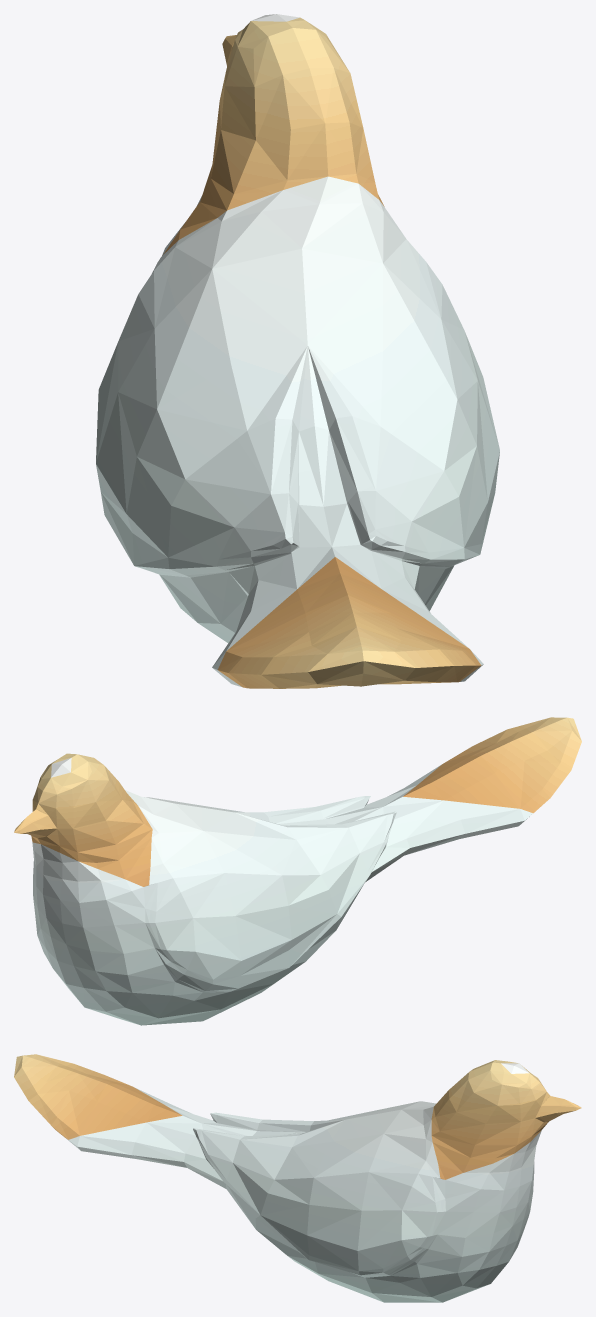
The model's file is CharSkyKid_Horn_AP12Dove_01.glb.
3 views of the same model, one above another, from view 1: azimuth 30°, elevation 25°; view 2: azimuth 150°, elevation 25°; view 3: azimuth 270°, elevation 25° (orthographic). The views are drawn at different scales.
Parts seen in each view (by area): view 1: CharSkyKid_Horn_AP12Dove_01; view 2: CharSkyKid_Horn_AP12Dove_01; view 3: CharSkyKid_Horn_AP12Dove_01.
Part boxes in pixels (x1,y1,x2,y2): CharSkyKid_Horn_AP12Dove_01: (96,14,499,688); CharSkyKid_Horn_AP12Dove_01: (14,717,581,1025); CharSkyKid_Horn_AP12Dove_01: (14,1054,581,1302).
Size of the model in its own units: 1.81 by 1.59 by 3.21.
1 material, 1 textured.
